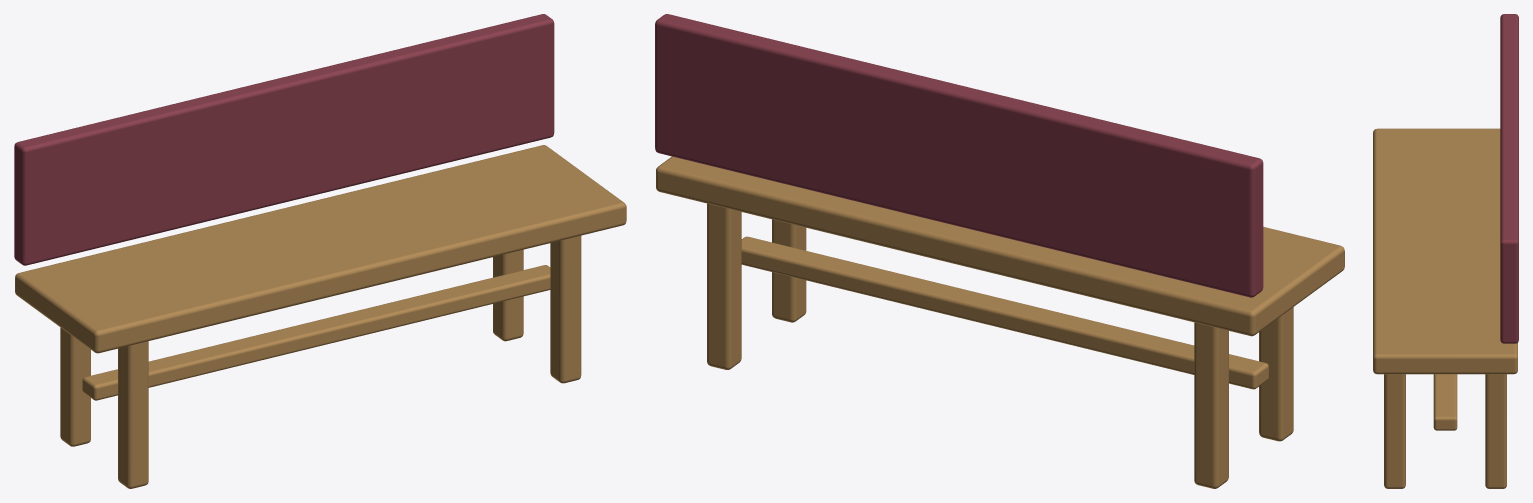
The model's file is abandoned-puppet-theatre-and-prop-vault-audience-bench-b8d7e43d__31074.glb.
3 renders of one model, left to right at view 1: azimuth 30°, elevation 25°; view 2: azimuth 150°, elevation 25°; view 3: azimuth 270°, elevation 25°, orthographic. The views are drawn at different scales.
Parts seen in each view (by area): view 1: audience-bench; view 2: audience-bench; view 3: audience-bench.
Boxes of the visible parts, left/top/right/bottom form: audience-bench: left=14, top=14, right=626, bottom=488; audience-bench: left=655, top=14, right=1344, bottom=488; audience-bench: left=1373, top=14, right=1518, bottom=488.
Size of the model in its own units: 1.6 by 0.87 by 0.4325.
